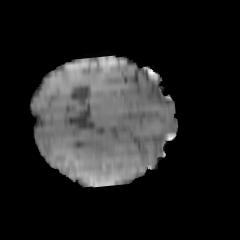glioma: (70, 136, 146, 185)
